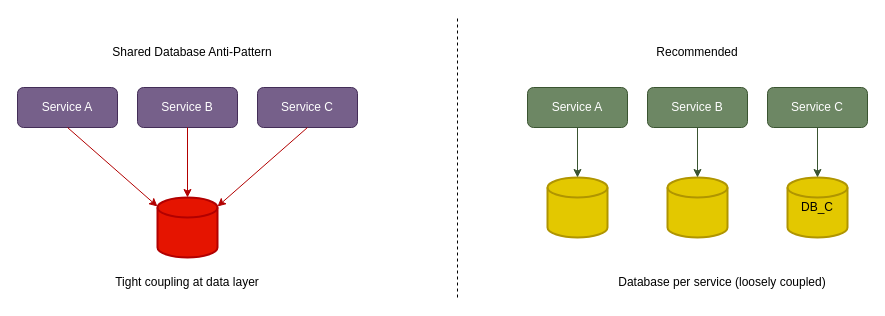
This 885x316 diagram has some shape labels left out. The shapes that lost their labels are listed below. From the top down, each one's box as (x1, y1, x2, y2) in pixels, then its label:
(156, 196, 218, 258): Database
(546, 176, 608, 238): DB_A
(666, 176, 728, 238): DB_B
